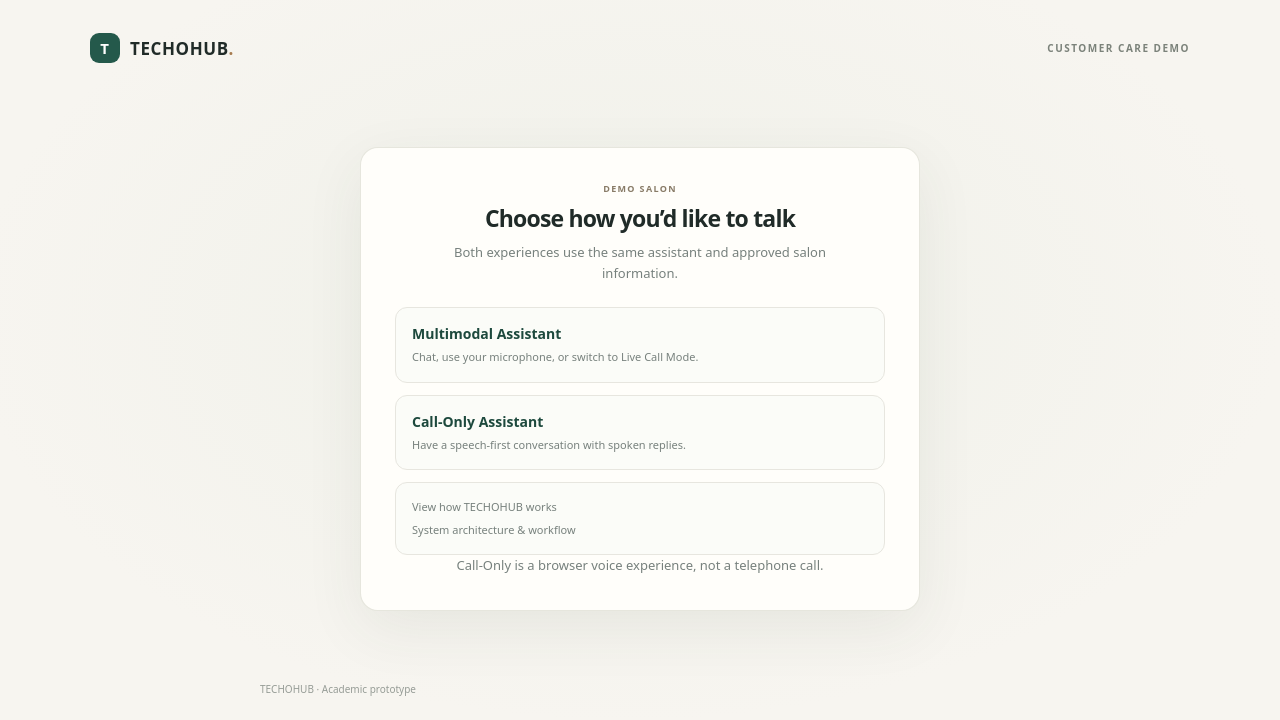
Test case: browser text chat › replaces a listening Mic cycle with exactly one Live Call cycle
Later steps or results of the test are not shown.
Click the button "Multimodal Assistant" at (487,334), box [395,307,885,383]
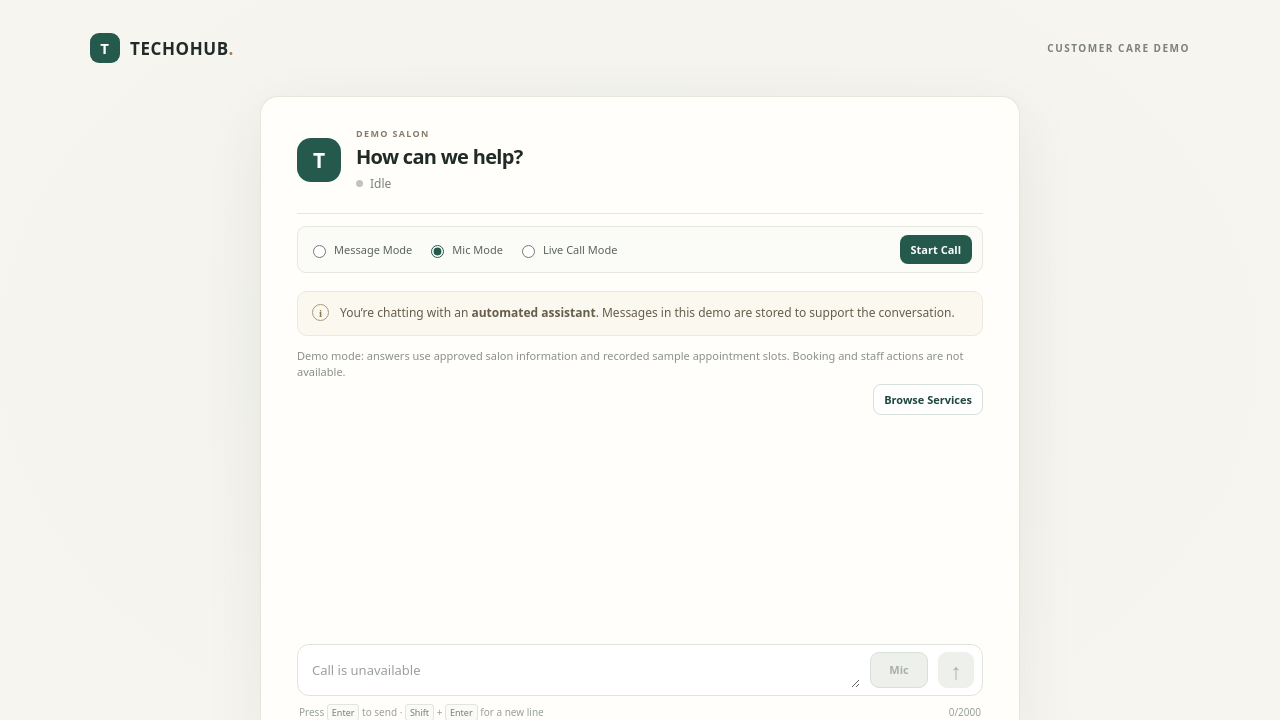
Click the radio button labelled "Mic Mode" at (438,251), box [431,244,444,258]
Click the button "Start Call" at (936,250), box [900,235,972,264]
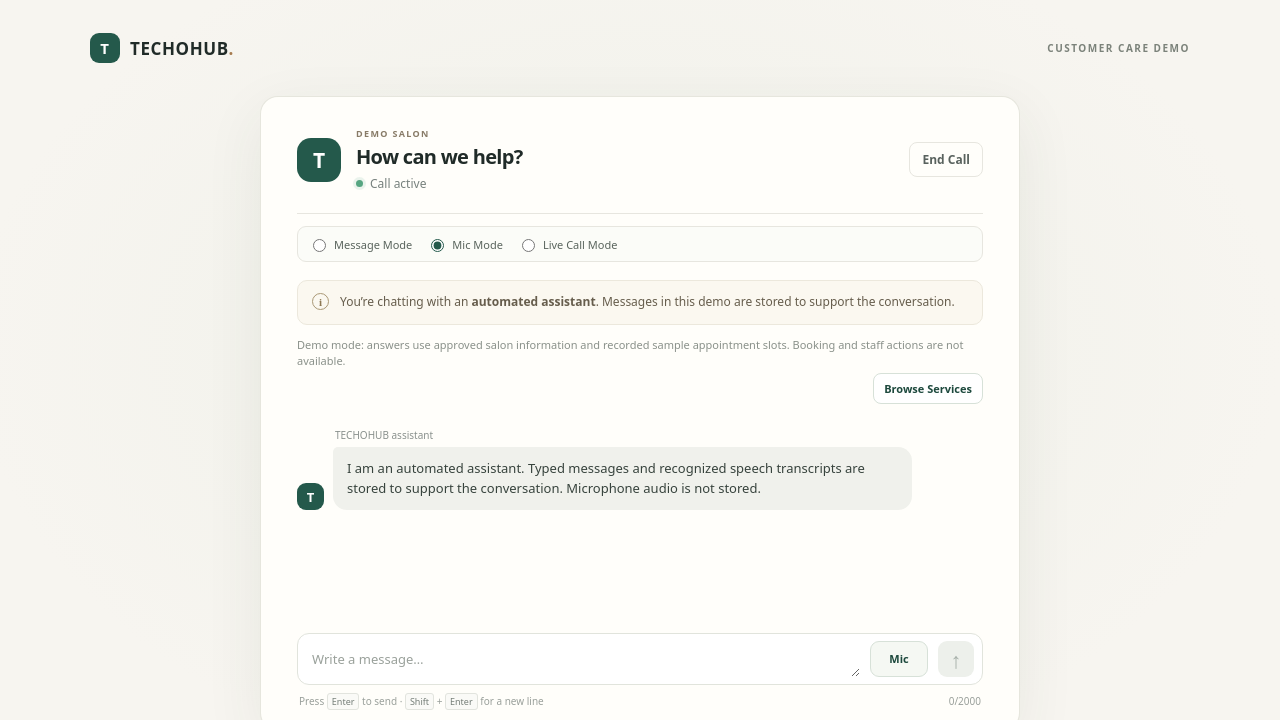
Now the button "End Call" is shown, box [910,142,983,177]
Now the text box named "Your message" is enabled, box [312,643,860,677]
